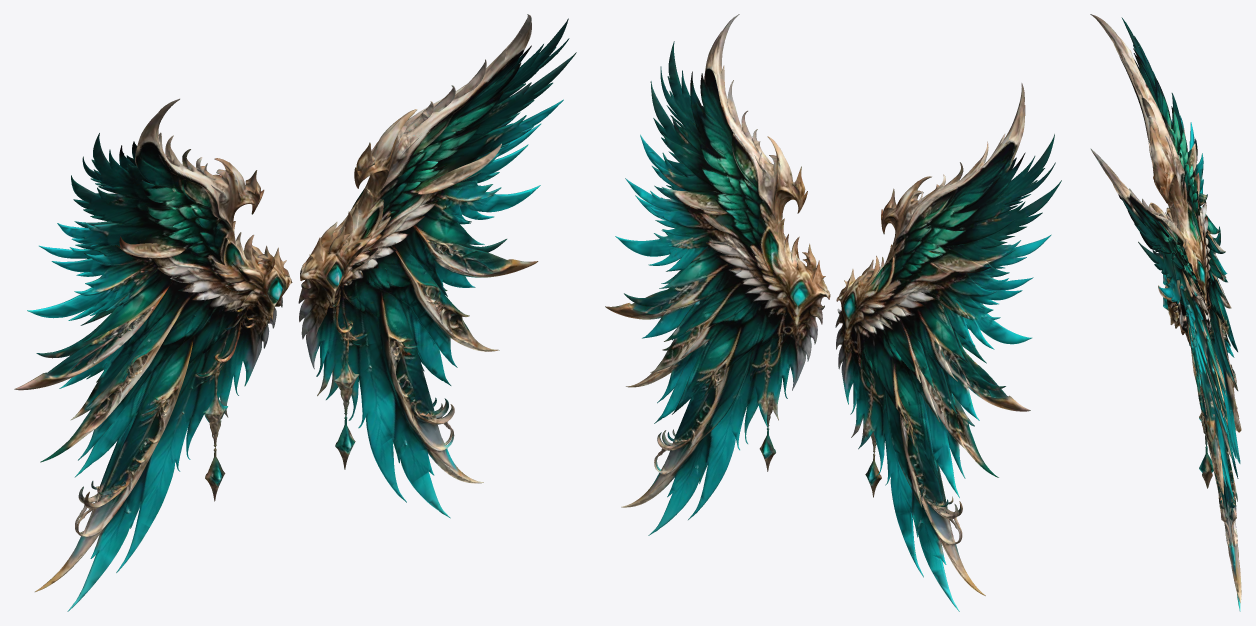
Rendered from EmeraldCoen.glb.
The picture shows the model from 3 angles, left to right: view 1: azimuth 30°, elevation 25°; view 2: azimuth 150°, elevation 25°; view 3: azimuth 270°, elevation 25°; orthographic projection. The views are drawn at different scales.
Parts seen in each view (by area): view 1: node_0; view 2: node_0; view 3: node_0.
Boxes of the visible parts, x1=… form: node_0: x1=14, y1=14, x2=576, y2=611; node_0: x1=605, y1=14, x2=1061, y2=611; node_0: x1=1090, y1=14, x2=1241, y2=611.
Bounding box in the file's own units: 0.9582 × 1.01 × 0.3024.
1 material, 1 textured.
